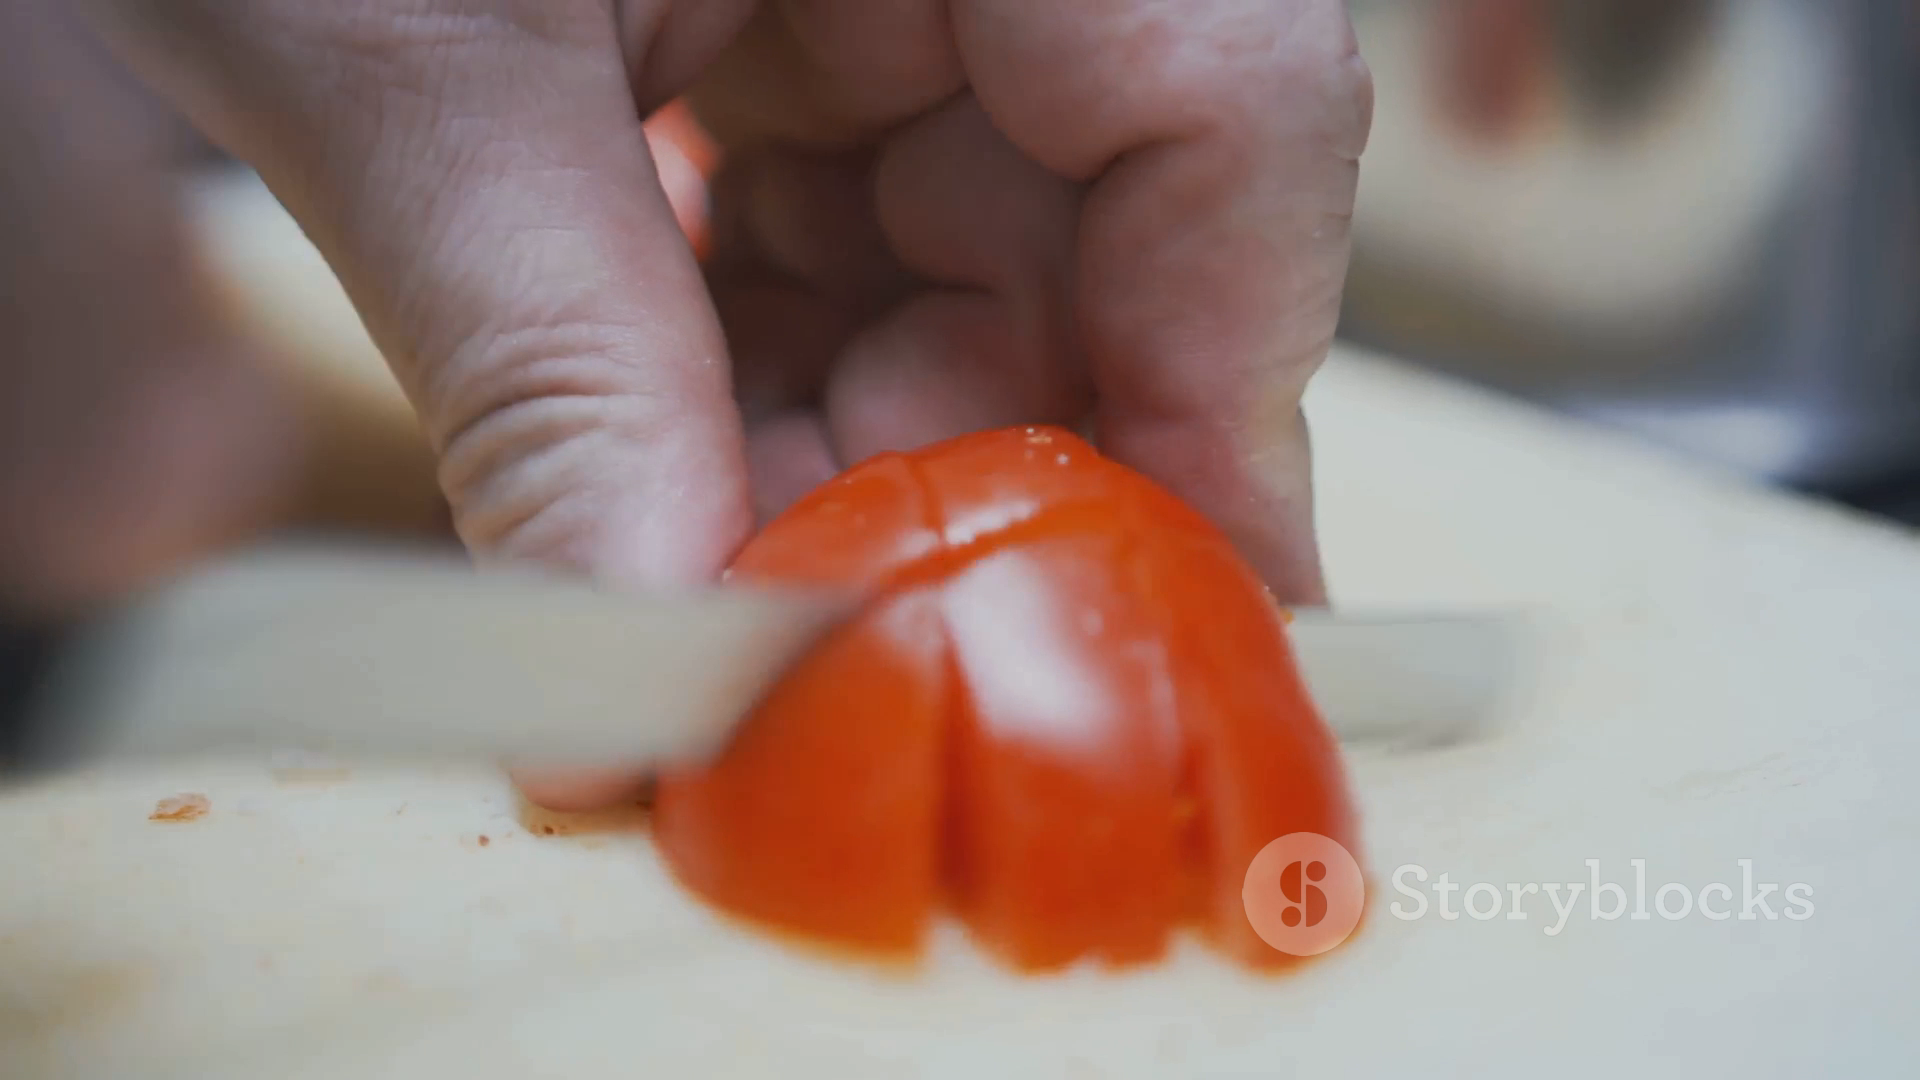cortante: (38, 554, 1526, 774)
